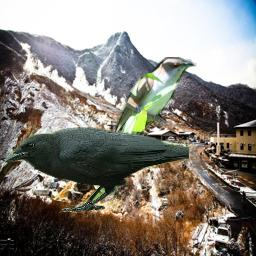Crow: (3, 127, 190, 214)
Cuckoo: (105, 57, 197, 197)
